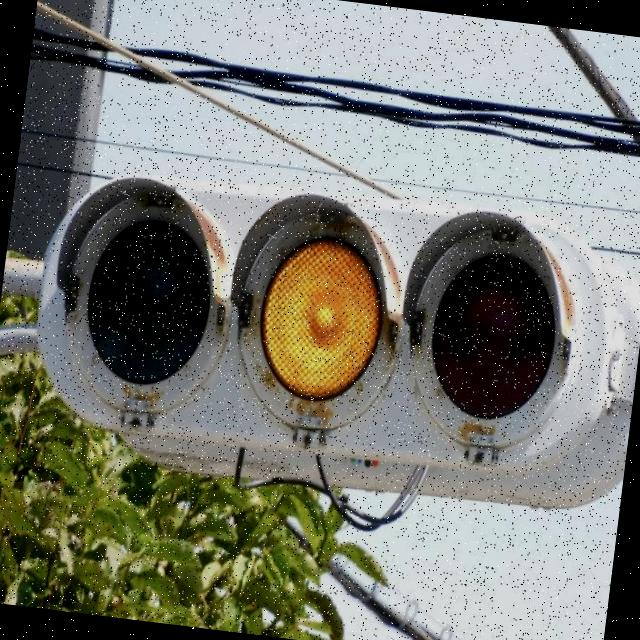yellow_light: (207, 206, 426, 430)
